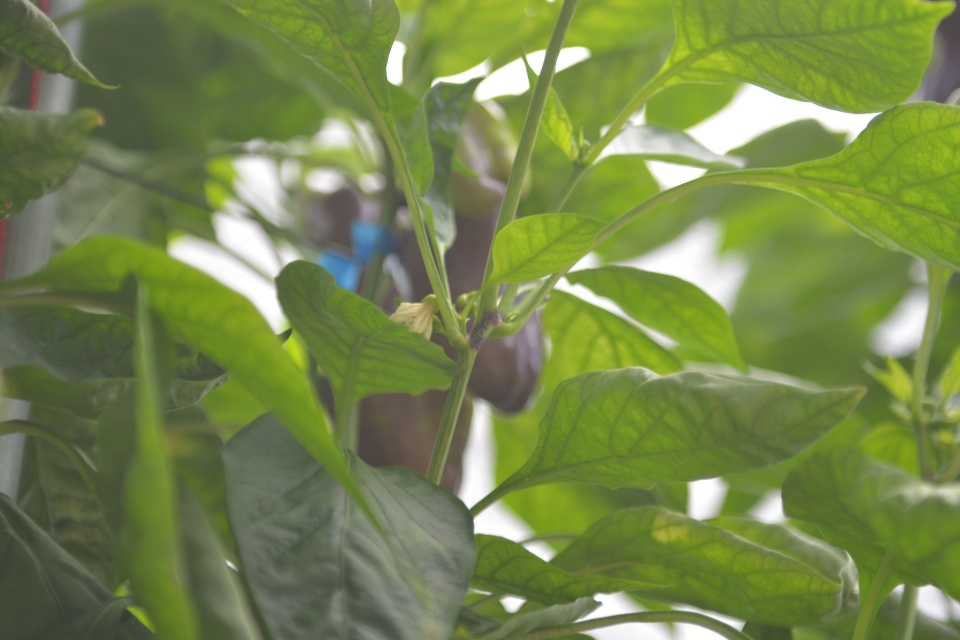flower: (386, 298, 436, 343)
fruit: (390, 197, 550, 419), (313, 368, 476, 501), (282, 170, 433, 266), (435, 91, 538, 223)
